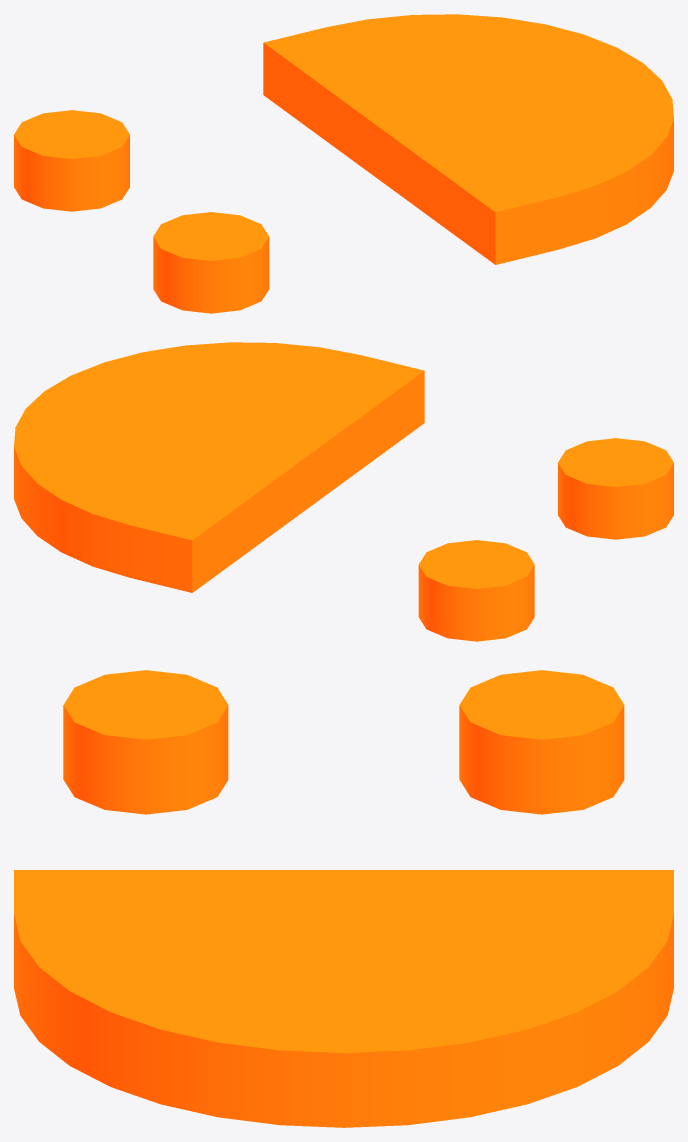
Rendered from Smily Level.fbx.
3 views of the same model, one above another, from view 1: azimuth 30°, elevation 25°; view 2: azimuth 150°, elevation 25°; view 3: azimuth 270°, elevation 25° (orthographic). The views are drawn at different scales.
Parts seen in each view (by area): view 1: Circle.018, Circle.020, Circle.019; view 2: Circle.018, Circle.019, Circle.020; view 3: Circle.018, Circle.019, Circle.020.
Boxes of the visible parts, x1,y1,x2,y2 form: Circle.018: (263, 14, 673, 264); Circle.020: (153, 212, 269, 313); Circle.019: (14, 110, 129, 211); Circle.018: (14, 342, 424, 592); Circle.019: (418, 540, 534, 641); Circle.020: (558, 438, 673, 539); Circle.018: (14, 870, 673, 1127); Circle.019: (459, 670, 624, 814); Circle.020: (63, 670, 228, 814).
Size of the model in its own units: 275 by 25 by 200.
